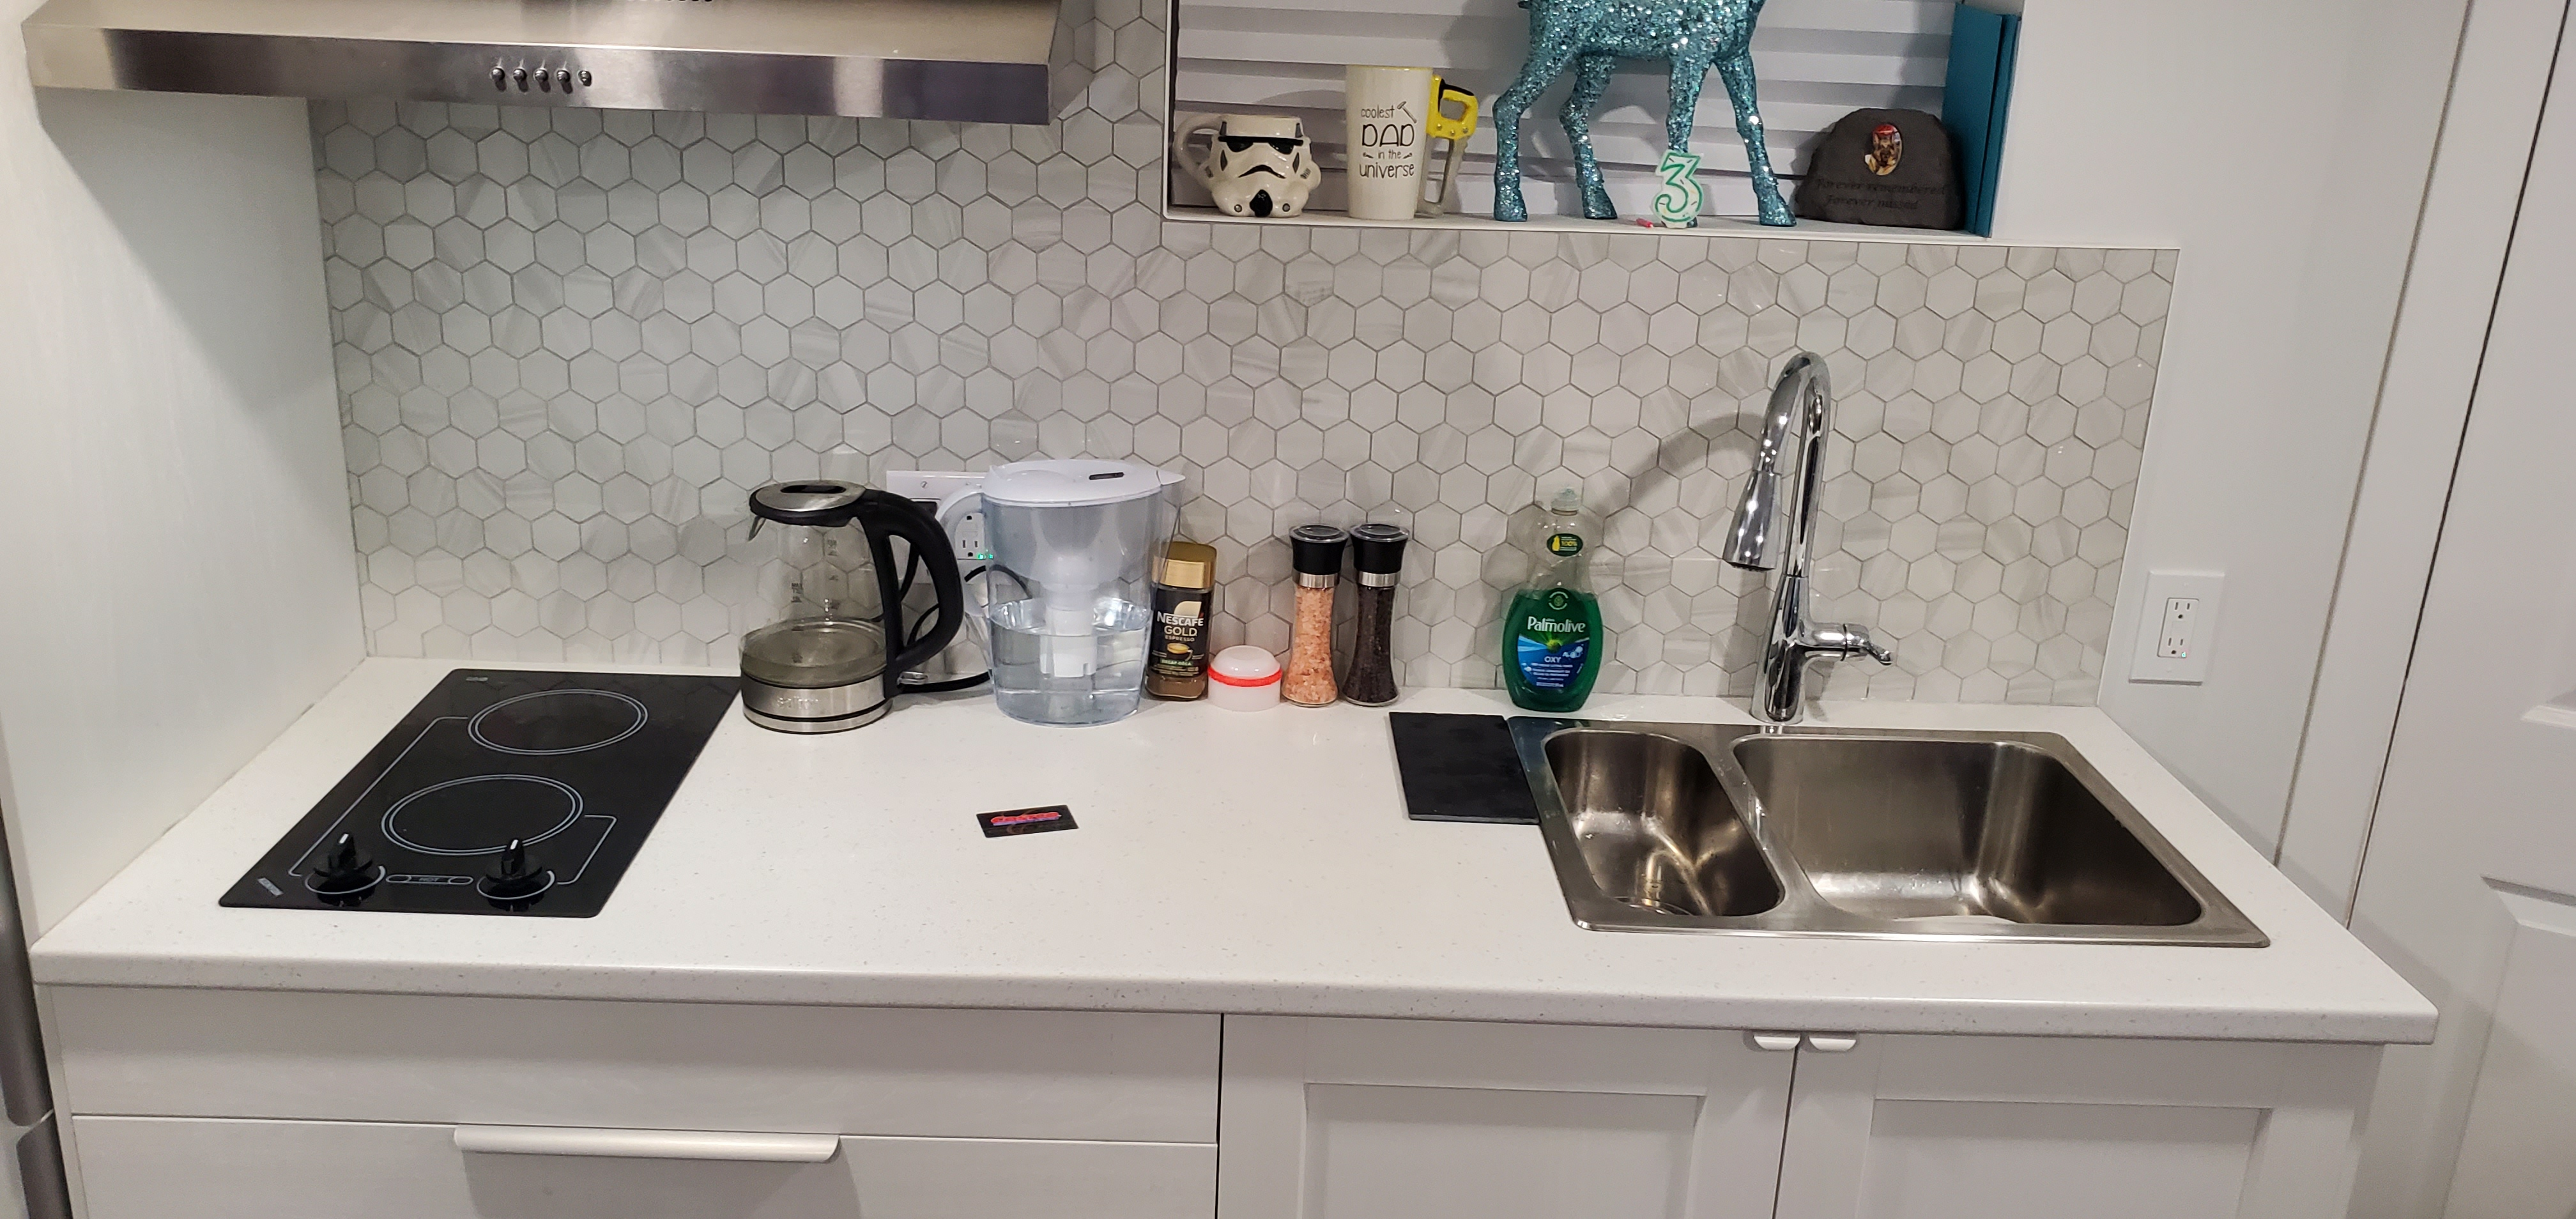cooktop: (204, 664, 770, 930)
giftcard: (974, 792, 1079, 851)
sink: (1485, 705, 2293, 959)
